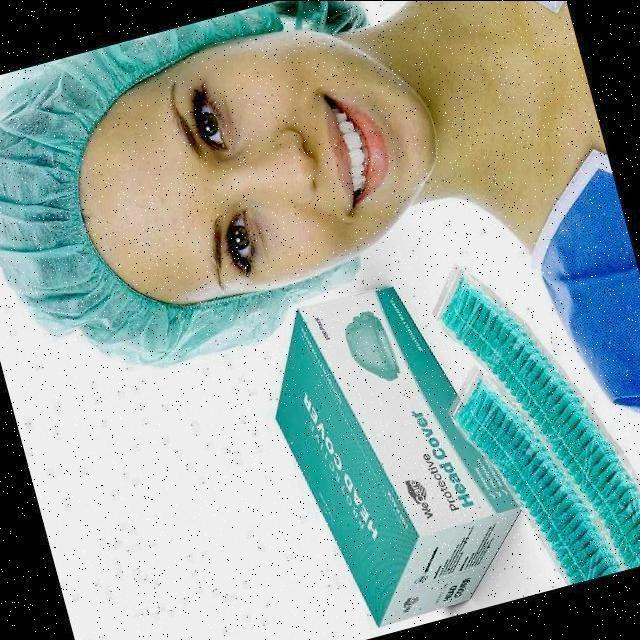gloves: (0, 57, 140, 343)
no_hairnet: (234, 78, 398, 204)
